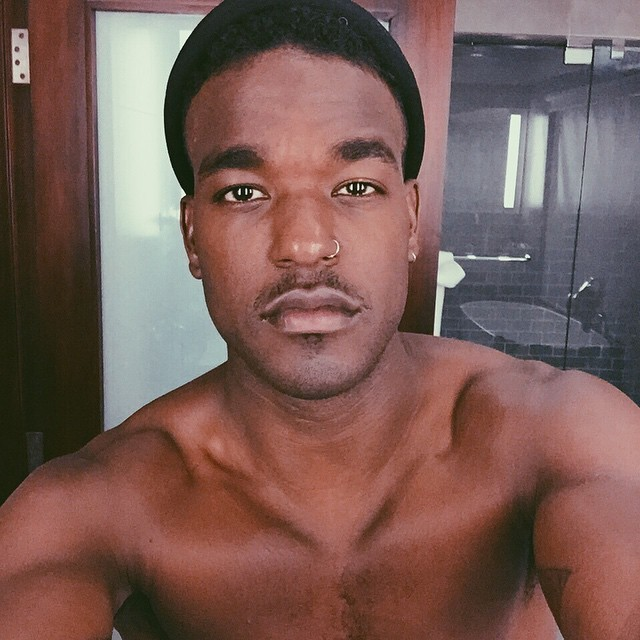human: (164, 21, 421, 397)
